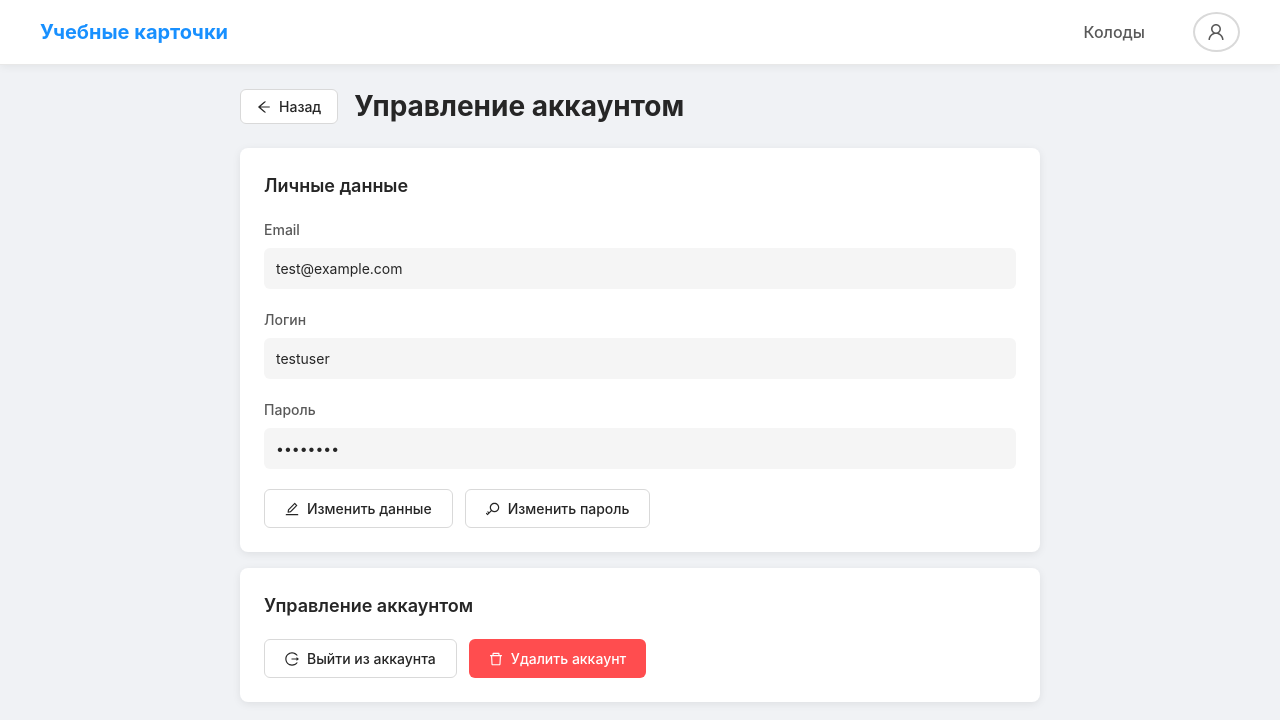
Test: ProfilePage › edit profile mode › validates login on change
Click the button "Изменить данные".
click(358, 508)  # box [264,489,453,528]
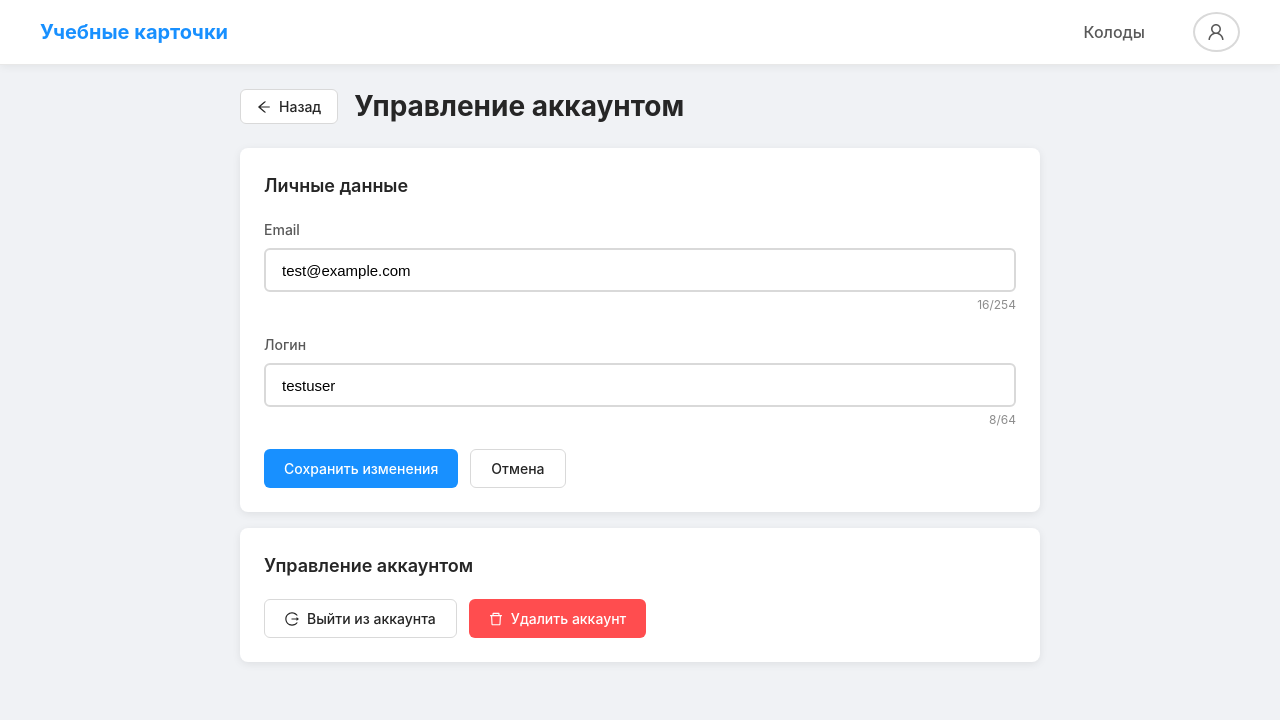
Replace the text in the field with placeholder "username" below "Логин" with "ab" at [640, 385], box [264,363,1016,407]
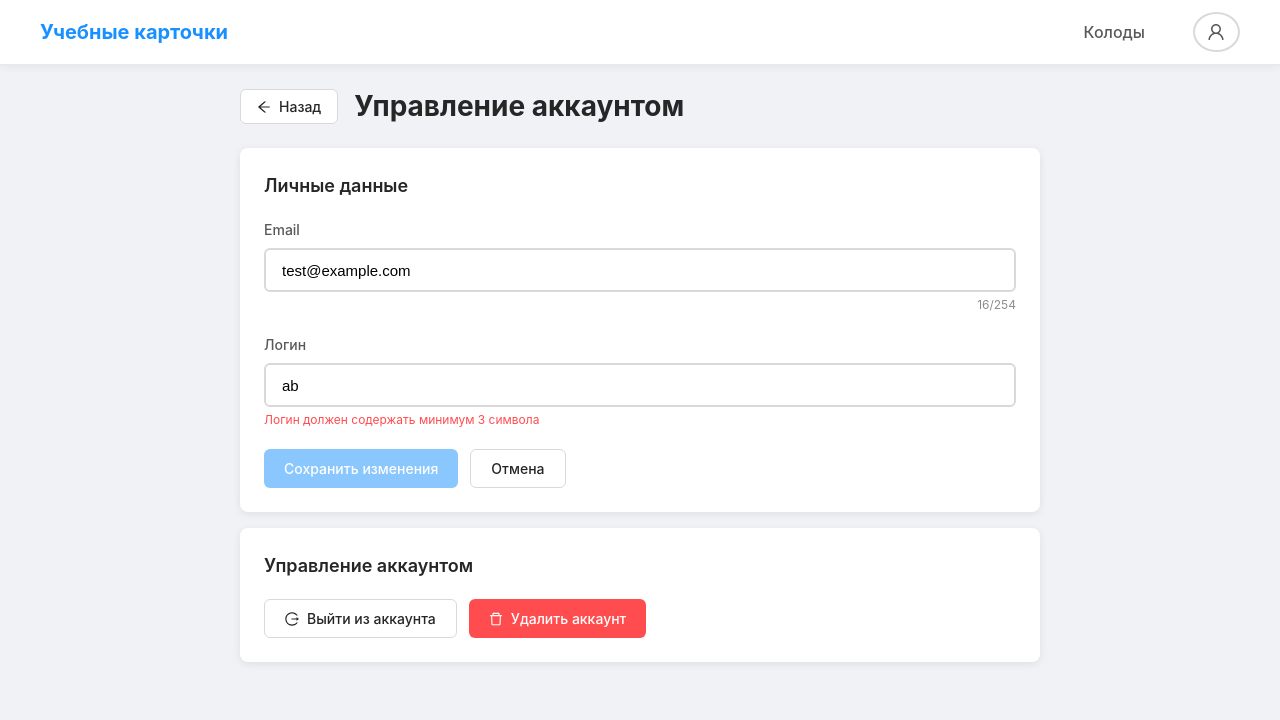
Now the text "Логин должен содержать минимум 3 символа" is shown, box [264,412,539,427]
